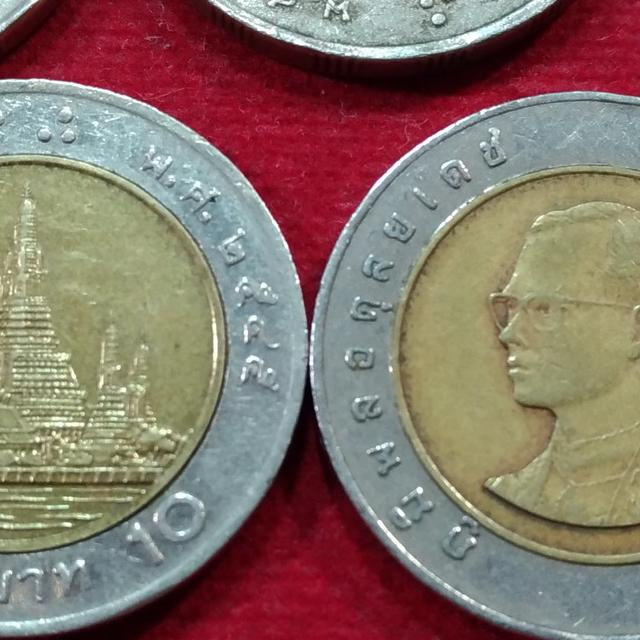10-baht: (307, 69, 640, 640), (0, 61, 320, 640)
